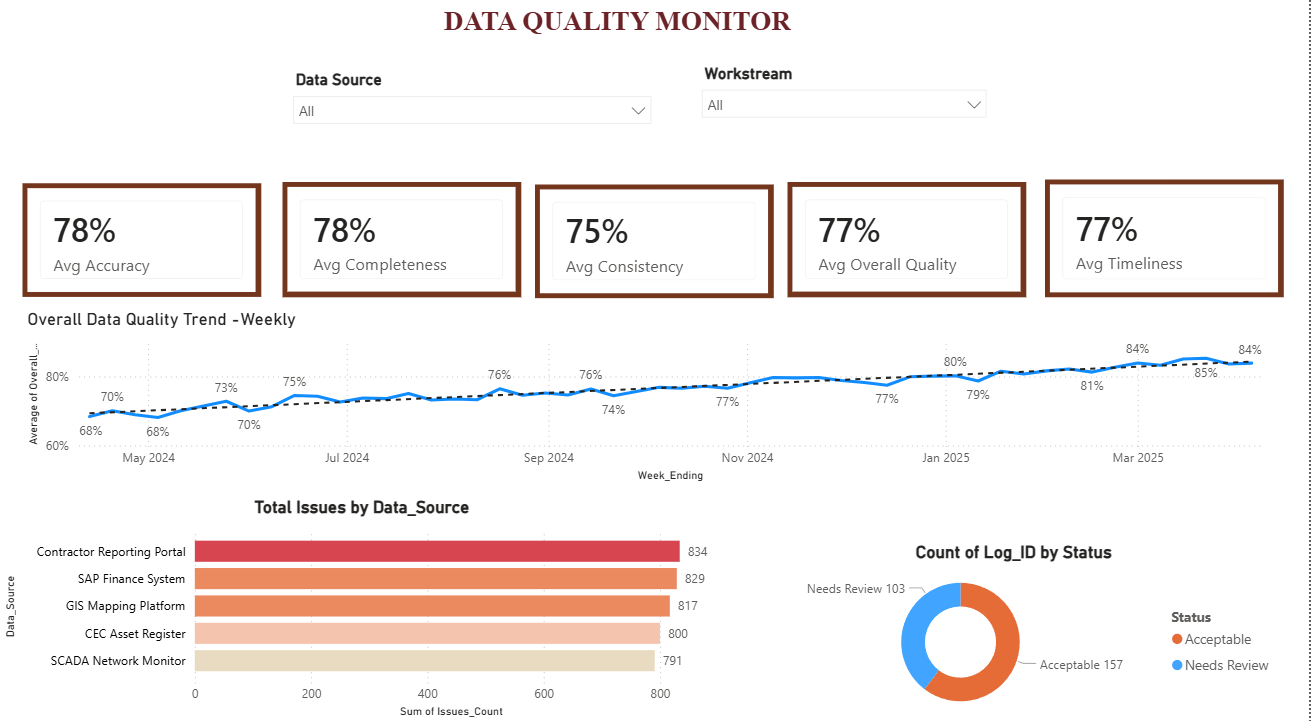

What the dashboard file says about the page in this screenshot:
{"tool":"powerbi","page":{"name":"Data Quality Monitor","canvas":[1280,720],"ordinal":1},"visuals":[{"type":"textbox","box":[9.6,13.7,1188.3,49.4],"z":0},{"type":"cardVisual","fields":{"Data":["Data_Quality_Log.Avg Accuracy"]},"box":[22,192.1,233.3,111.1],"z":1000},{"type":"cardVisual","fields":{"Data":["Data_Quality_Log.Avg Completeness"]},"box":[275.8,190.7,233.3,112.5],"z":2000},{"type":"cardVisual","fields":{"Data":["Data_Quality_Log.Avg Consistency"]},"box":[522.8,193.5,233.3,111.1],"z":3000},{"type":"cardVisual","fields":{"Data":["Data_Quality_Log.Avg Overall Quality"]},"box":[769.8,190.7,233.3,112.5],"z":4000},{"type":"cardVisual","fields":{"Data":["Data_Quality_Log.Avg Timeliness"]},"box":[1022.3,188,233.3,115.3],"z":5000},{"type":"lineChart","title":" Overall Data Quality Trend -Weekly","fields":{"Y":["Avg(Data_Quality_Log.Overall_Quality_%)"],"Category":["Data_Quality_Log.Week_Ending"]},"box":[22,314.2,1233.6,174.3],"z":6000},{"type":"clusteredBarChart","title":"Total Issues by Data_Source","fields":{"Category":["Data_Quality_Log.Data_Source"],"Y":["Sum(Data_Quality_Log.Issues_Count)"]},"box":[0,499.5,708.1,220.9],"z":7000},{"type":"donutChart","fields":{"Category":["Data_Quality_Log.Status"],"Y":["CountNonNull(Data_Quality_Log.Log_ID)"]},"box":[729,543,526,177],"z":8000},{"type":"slicer","fields":{"Values":["Data_Quality_Log.Data_Source"]},"box":[275.8,76.8,370.5,96.1],"z":9000},{"type":"slicer","fields":{"Values":["Data_Quality_Log.Workstream"]},"box":[676.5,71.4,299.1,107],"z":10000}]}

Visuals, with their boxes in screenshot pixels (x1, y1, x2, y2), scaled from the page's 1280x720 canvas onto the 1312x721 screenshot:
textbox: BBox(10, 14, 1228, 63)
cardVisual - Data_Quality_Log.Avg Accuracy: BBox(23, 192, 262, 304)
cardVisual - Data_Quality_Log.Avg Completeness: BBox(283, 191, 522, 304)
cardVisual - Data_Quality_Log.Avg Consistency: BBox(536, 194, 775, 305)
cardVisual - Data_Quality_Log.Avg Overall Quality: BBox(789, 191, 1028, 304)
cardVisual - Data_Quality_Log.Avg Timeliness: BBox(1048, 188, 1287, 304)
" Overall Data Quality Trend -Weekly" lineChart: BBox(23, 315, 1287, 489)
"Total Issues by Data_Source" clusteredBarChart: BBox(0, 500, 726, 720)
donutChart - Data_Quality_Log.Status x CountNonNull(Data_Quality_Log.Log_ID): BBox(747, 544, 1286, 720)
slicer - Data_Quality_Log.Data_Source: BBox(283, 77, 662, 173)
slicer - Data_Quality_Log.Workstream: BBox(693, 71, 1000, 179)
